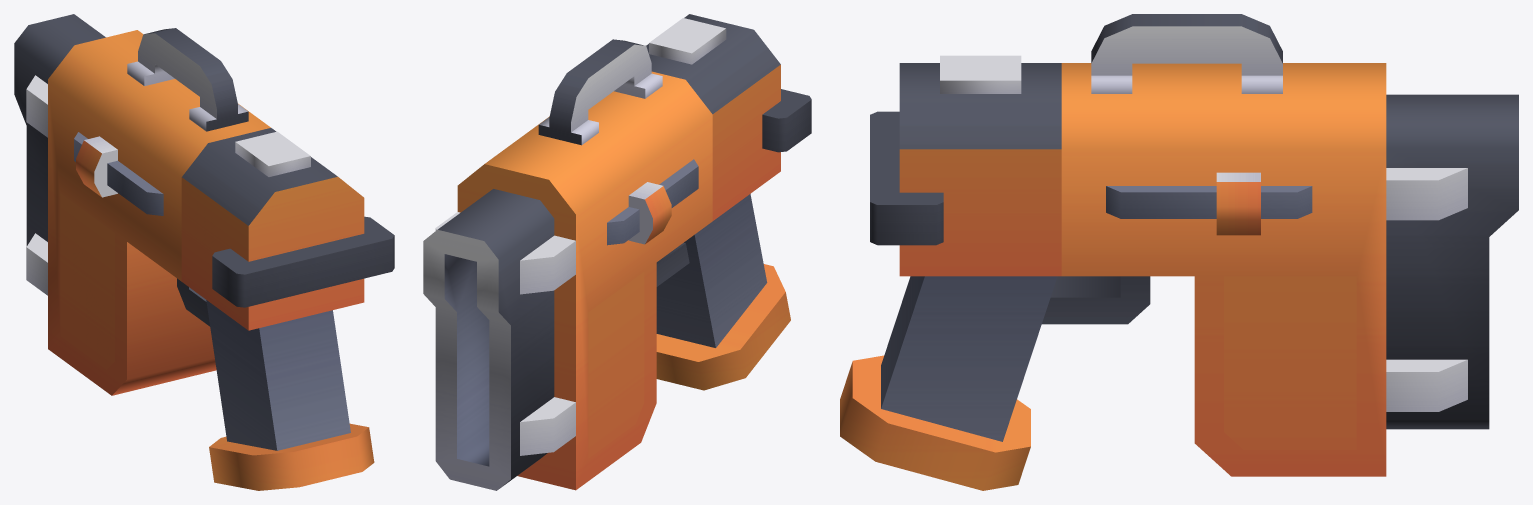
File: blaster-k.glb
The picture shows the model from 3 angles, left to right: view 1: azimuth 30°, elevation 25°; view 2: azimuth 150°, elevation 25°; view 3: azimuth 270°, elevation 25°; orthographic projection. The views are drawn at different scales.
Parts seen in each view (by area): view 1: blaster-k; view 2: blaster-k; view 3: blaster-k.
Boxes of the visible parts, <box> form: blaster-k: <box>14,14,394,490</box>; blaster-k: <box>423,14,811,490</box>; blaster-k: <box>840,14,1518,490</box>.
Bounding box in the file's own units: 0.155 × 0.3338 × 0.4604.
Materials: 1 (1 with a texture image).
